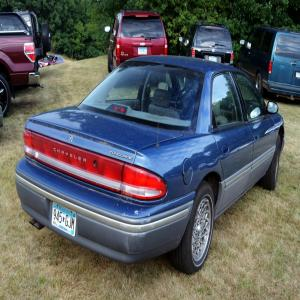Vehicle-registration-plate: (49, 211, 75, 241), (139, 48, 148, 55), (209, 57, 218, 63), (296, 74, 300, 80)
